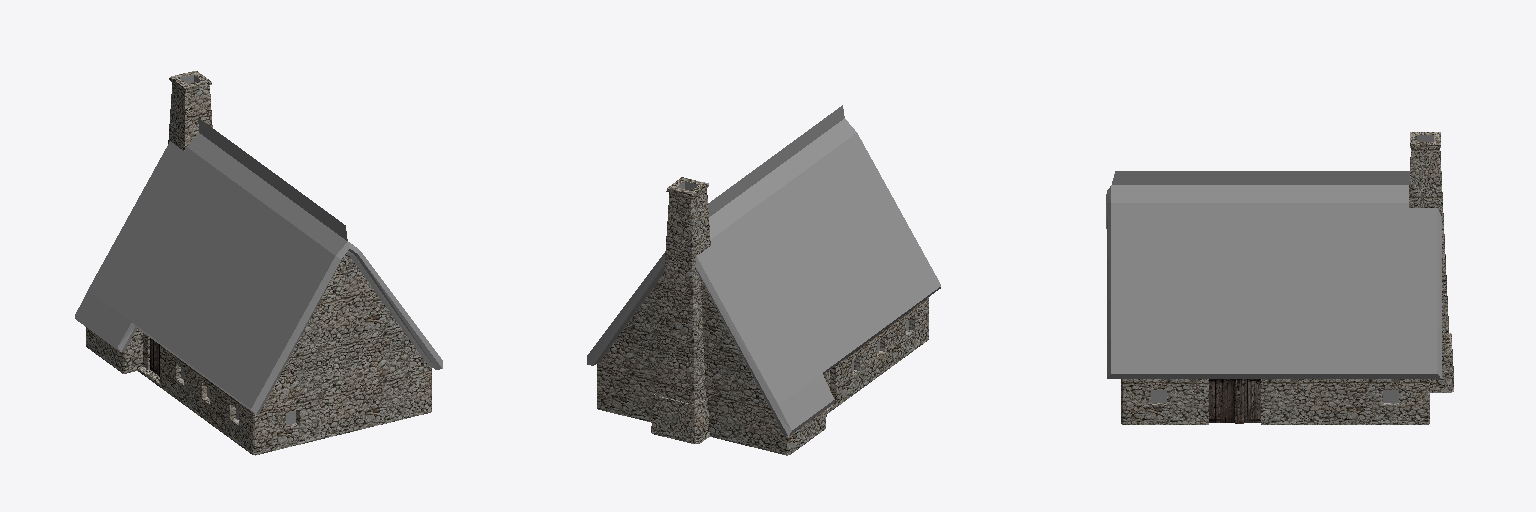
3 views of the same model, side by side, from view 1: azimuth 30°, elevation 25°; view 2: azimuth 150°, elevation 25°; view 3: azimuth 270°, elevation 25° (orthographic).
Visible parts, largest first — view 1: poorfolks_barn_bricks001; view 2: poorfolks_barn_bricks001; view 3: poorfolks_barn_bricks001.
Part boxes in pixels (x1,y1,x2,y2): poorfolks_barn_bricks001: (75, 71, 442, 455); poorfolks_barn_bricks001: (587, 105, 940, 455); poorfolks_barn_bricks001: (1106, 132, 1453, 424).
Bounding box in the file's own units: 1174 × 1330 × 1723.
5 materials, 2 textured.